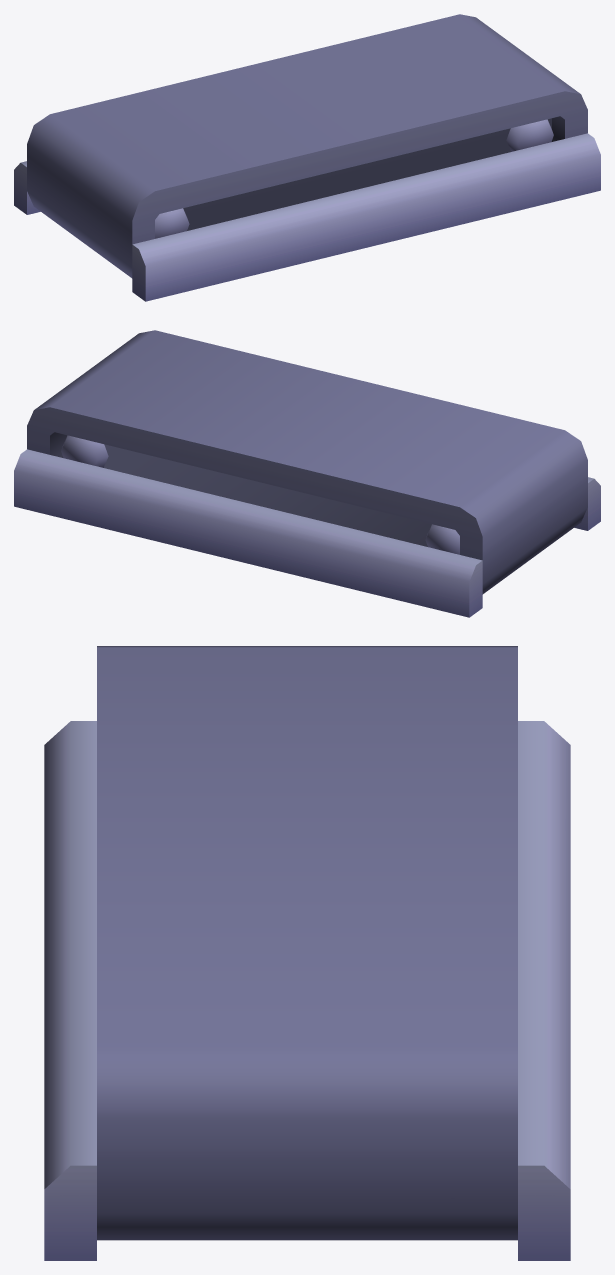
The model's file is kenney-conveyor-conveyor-long-sides.glb.
3 renders of one model, top to bottom at view 1: azimuth 30°, elevation 25°; view 2: azimuth 150°, elevation 25°; view 3: azimuth 270°, elevation 25°, orthographic. The views are drawn at different scales.
Visible parts, largest first — view 1: conveyor-long-sides; view 2: conveyor-long-sides; view 3: conveyor-long-sides.
Boxes of the visible parts, x1,y1,x2,y2 form: conveyor-long-sides: [14, 14, 600, 301]; conveyor-long-sides: [14, 330, 600, 617]; conveyor-long-sides: [44, 646, 570, 1260].
Bounding box in the file's own units: 2 × 0.3999 × 1.
1 material, 1 textured.
